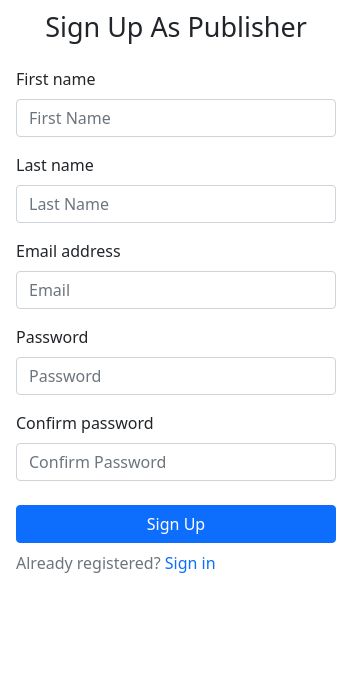
Scenario: Testing SignUp component › Testing the component when inserting a password confirmation that is not equal to the new password it should shows "Confirm your password"
In the password field with placeholder "Password": (176, 376) x1=16 y1=357 x2=336 y2=395, type "Q1!wasdf"
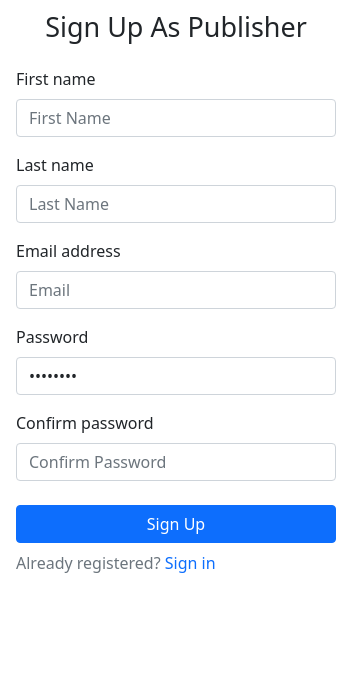
In the password field with placeholder "Confirm password": (176, 462) x1=16 y1=443 x2=336 y2=481, type "Q3!wasdf"
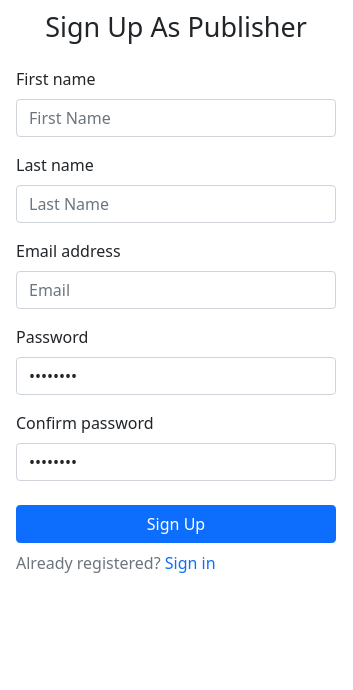
Click the button "Sign Up": (176, 524) x1=16 y1=505 x2=336 y2=543
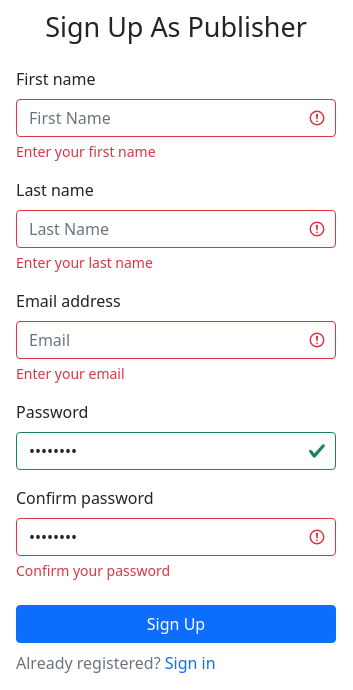
Expected: the text "Confirm your password" is shown, x1=16 y1=561 x2=170 y2=580
